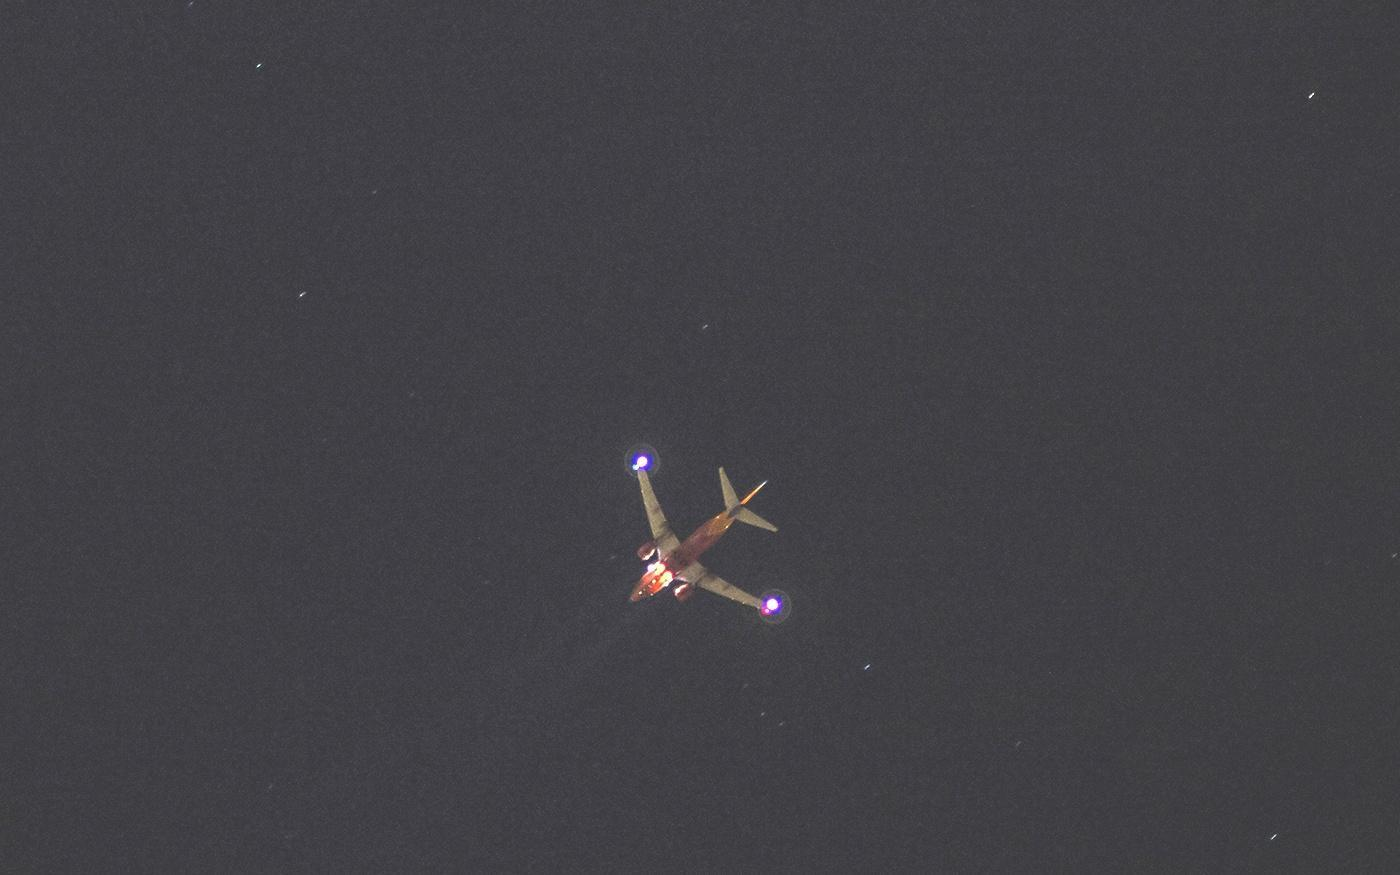Plane: (599, 426, 797, 642)
